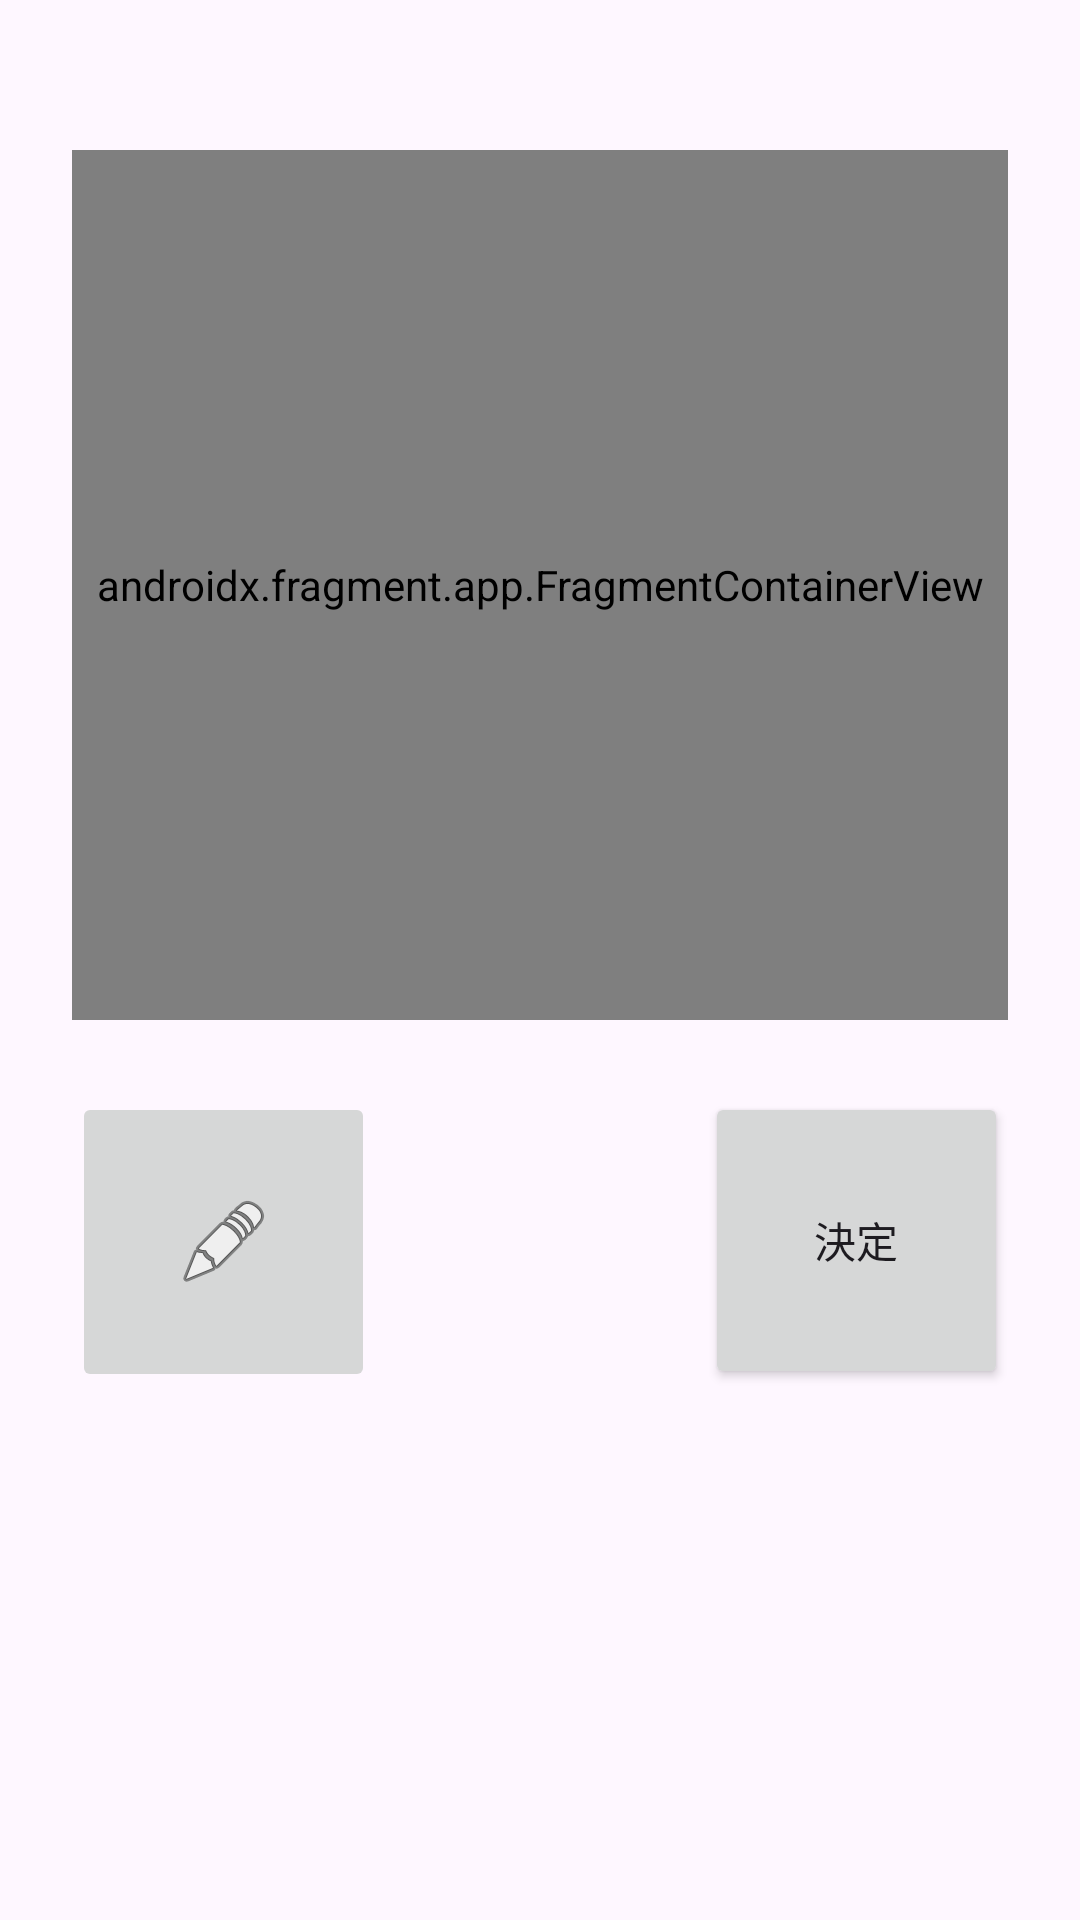

Locate icon controls on the screen. Image size 1080 x 1920, boxes as (x1, y1, x2, y2).
edit: (84, 1110, 363, 1374)
